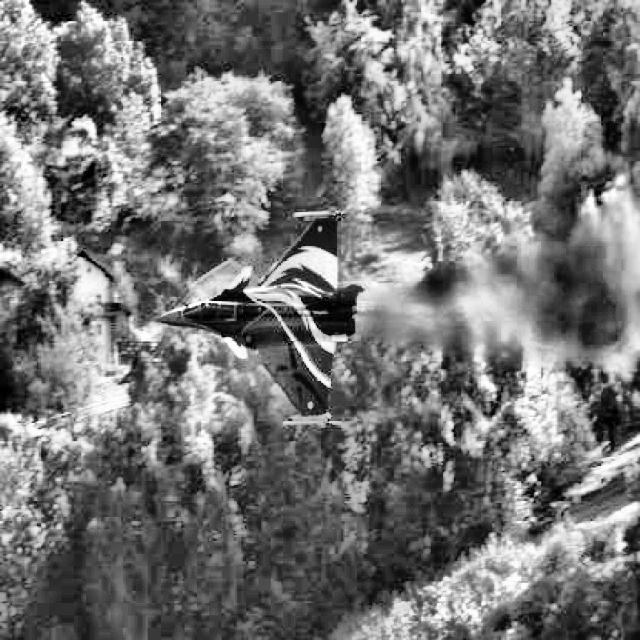Rafale: (152, 206, 365, 429)
